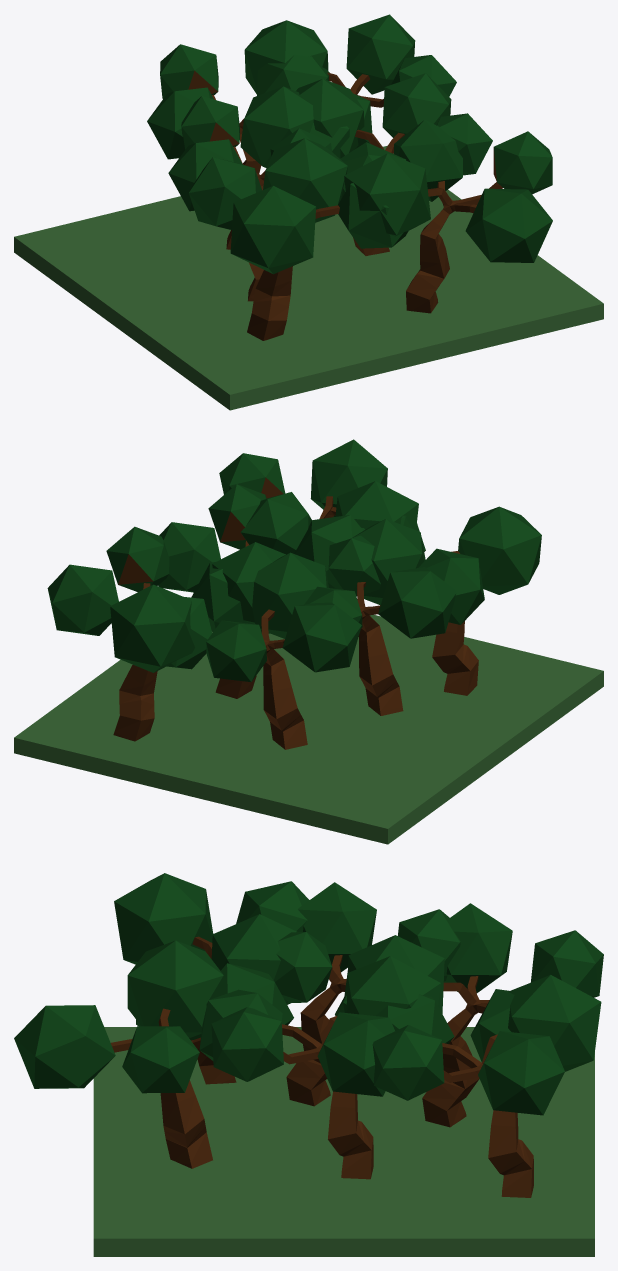
The model's file is Bosquel.fbx.
3 views of the same model, one above another, from view 1: azimuth 30°, elevation 25°; view 2: azimuth 150°, elevation 25°; view 3: azimuth 270°, elevation 25° (orthographic). The views are drawn at different scales.
Parts seen in each view (by area): view 1: Bosque; view 2: Bosque; view 3: Bosque.
Part boxes in pixels (x1,y1,x2,y2): Bosque: [14, 14, 603, 410]; Bosque: [14, 439, 603, 844]; Bosque: [14, 873, 603, 1256].
Size of the model in its own units: 17443 by 8478 by 20522.
